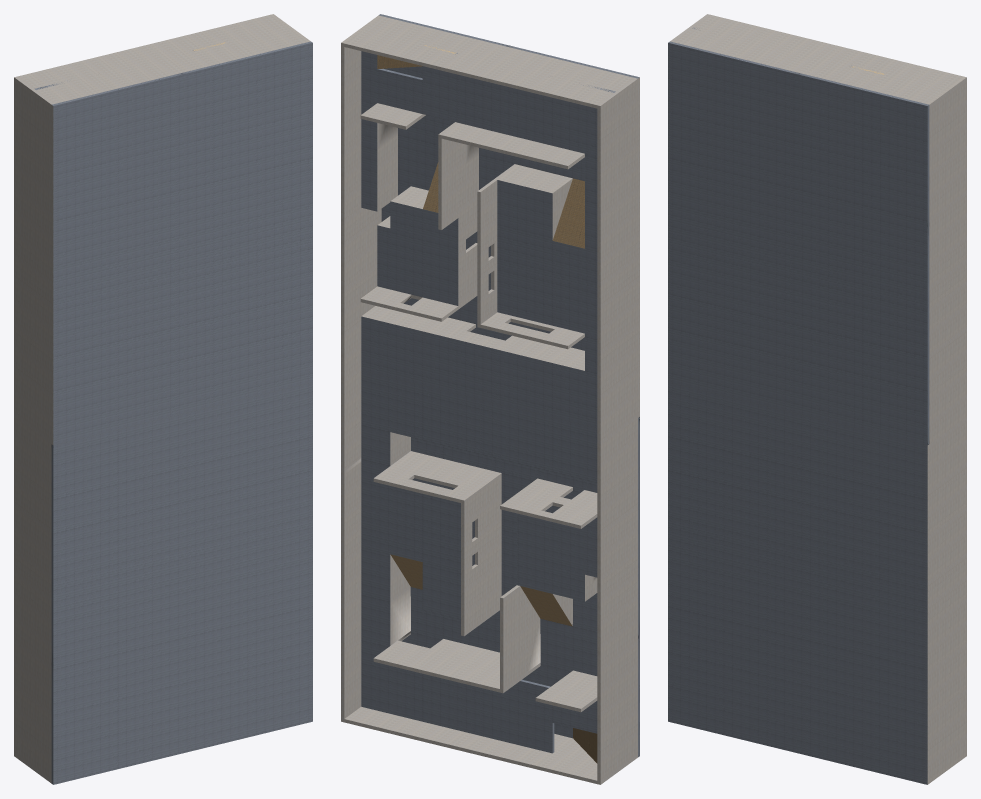
Rendered from Gloom.fbx.
The picture shows the model from 3 angles, left to right: view 1: azimuth 30°, elevation 25°; view 2: azimuth 150°, elevation 25°; view 3: azimuth 330°, elevation 25°; orthographic projection.
Parts seen in each view (by area): view 1: Gloom; view 2: Gloom; view 3: Gloom.
Part boxes in pixels (x1,y1,x2,y2): Gloom: [14, 14, 312, 784]; Gloom: [341, 14, 639, 784]; Gloom: [668, 14, 966, 784].
Bounding box in the file's own units: 40000 × 10500 × 100000.
